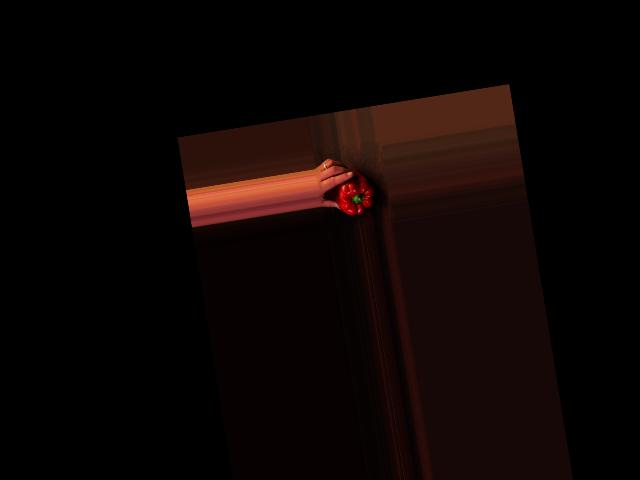bell_pepper: (330, 169, 378, 219)
